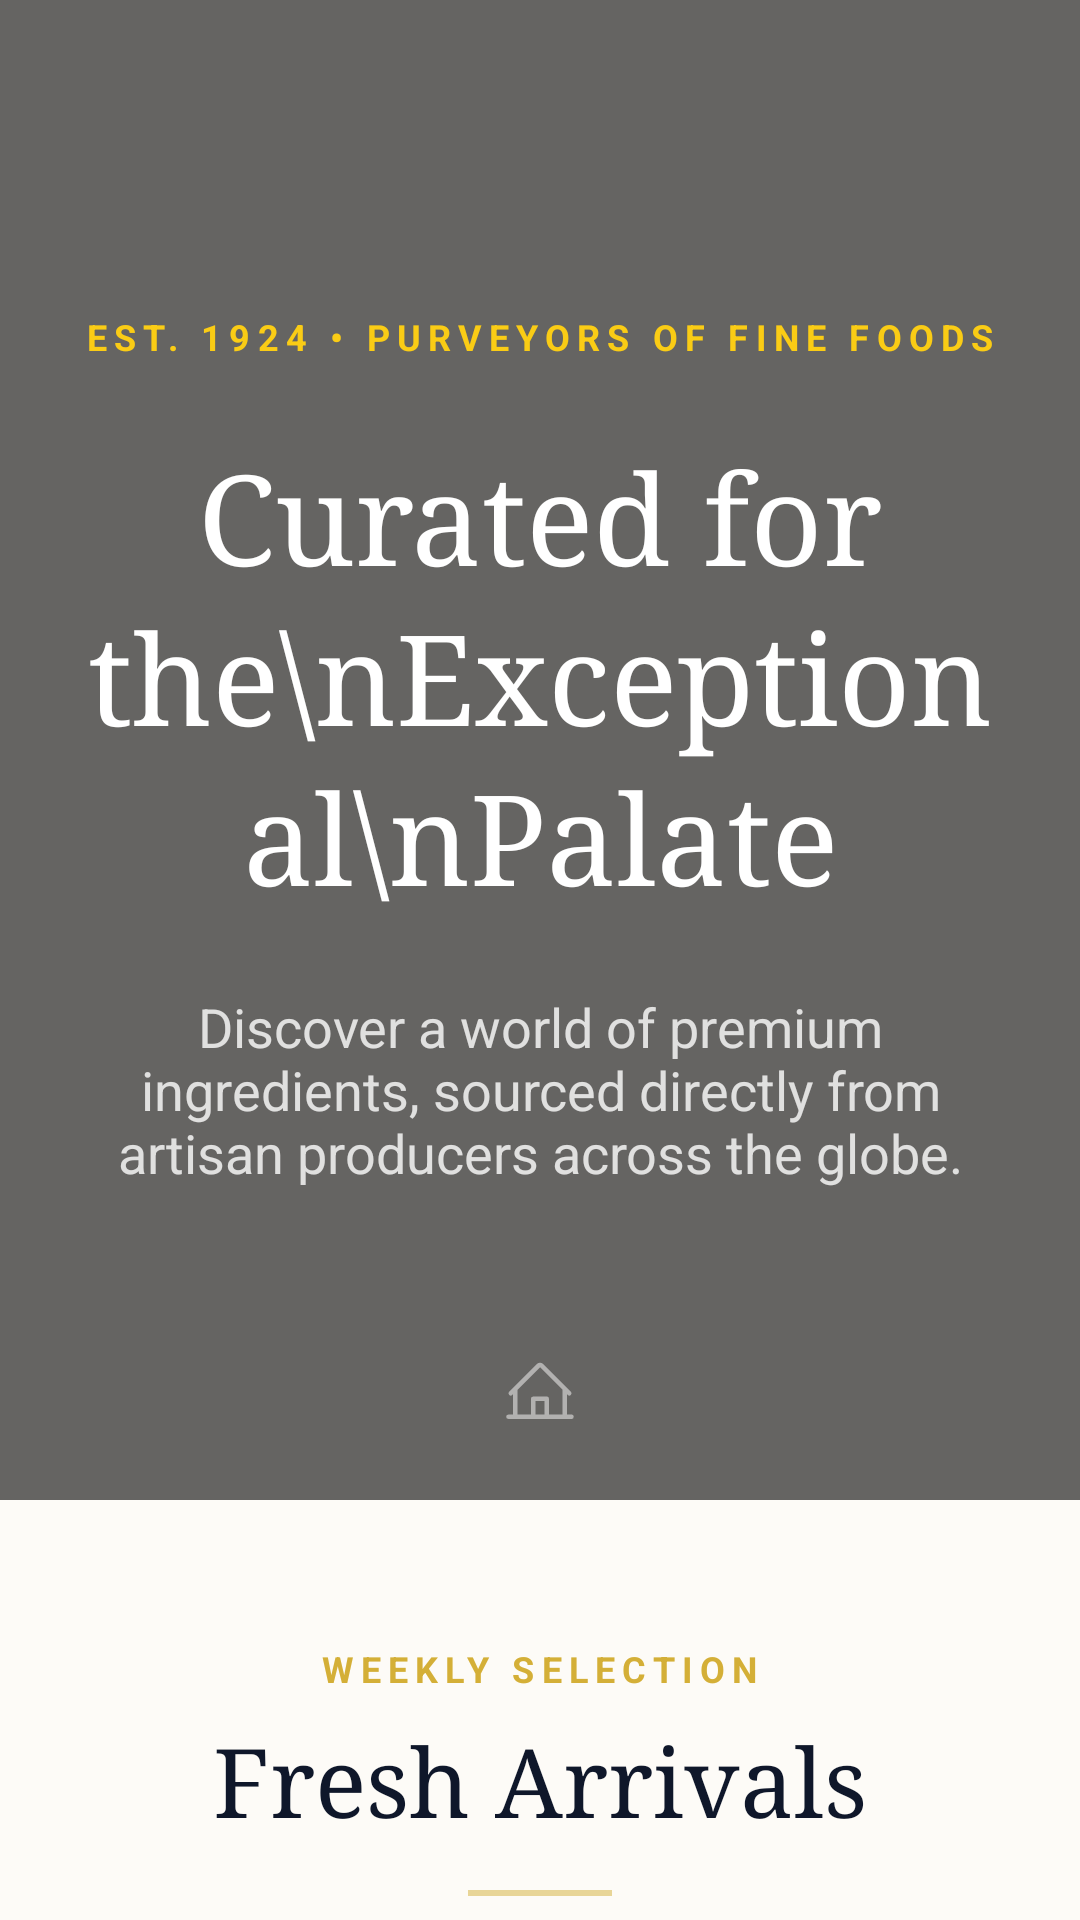

Screen size 1080x1920. Icon name, then its center in pixels as (x,y):
home: (540,1391)
